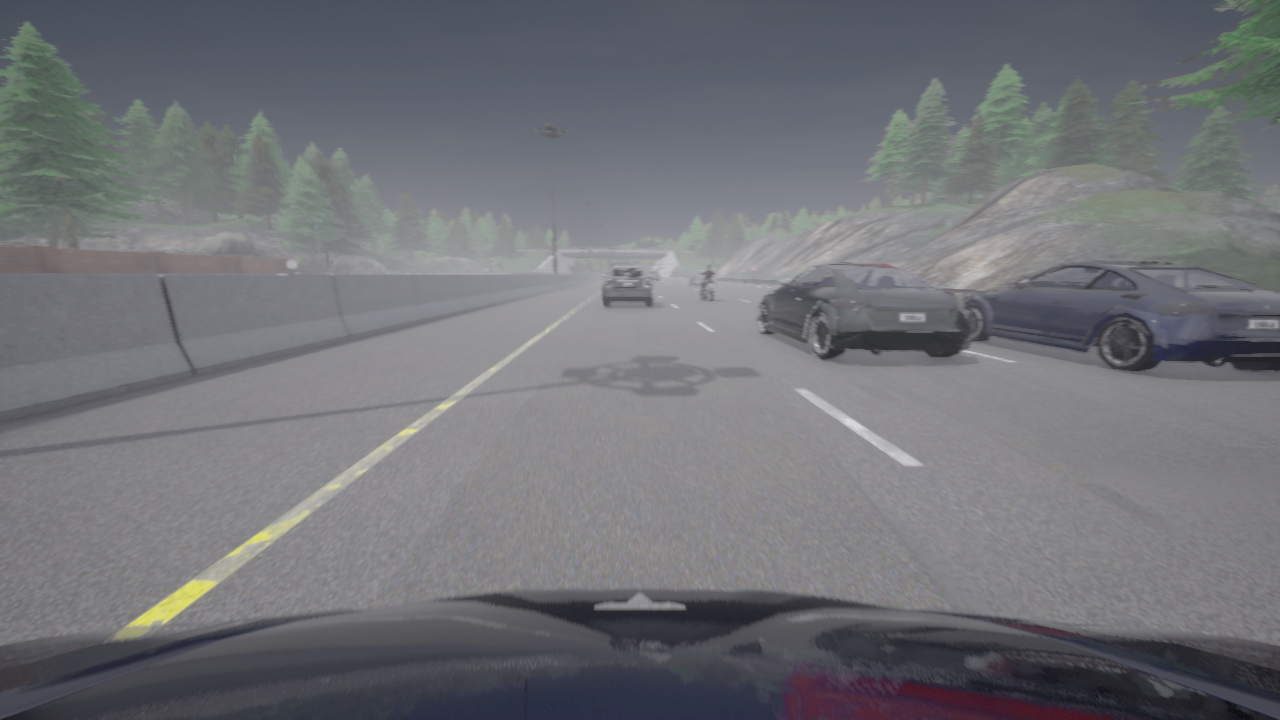cyclist: (0, 588, 1279, 719), (963, 262, 1279, 372), (756, 263, 972, 360), (602, 266, 652, 307), (604, 261, 633, 280), (699, 275, 715, 301), (690, 271, 715, 286), (647, 272, 660, 282)
